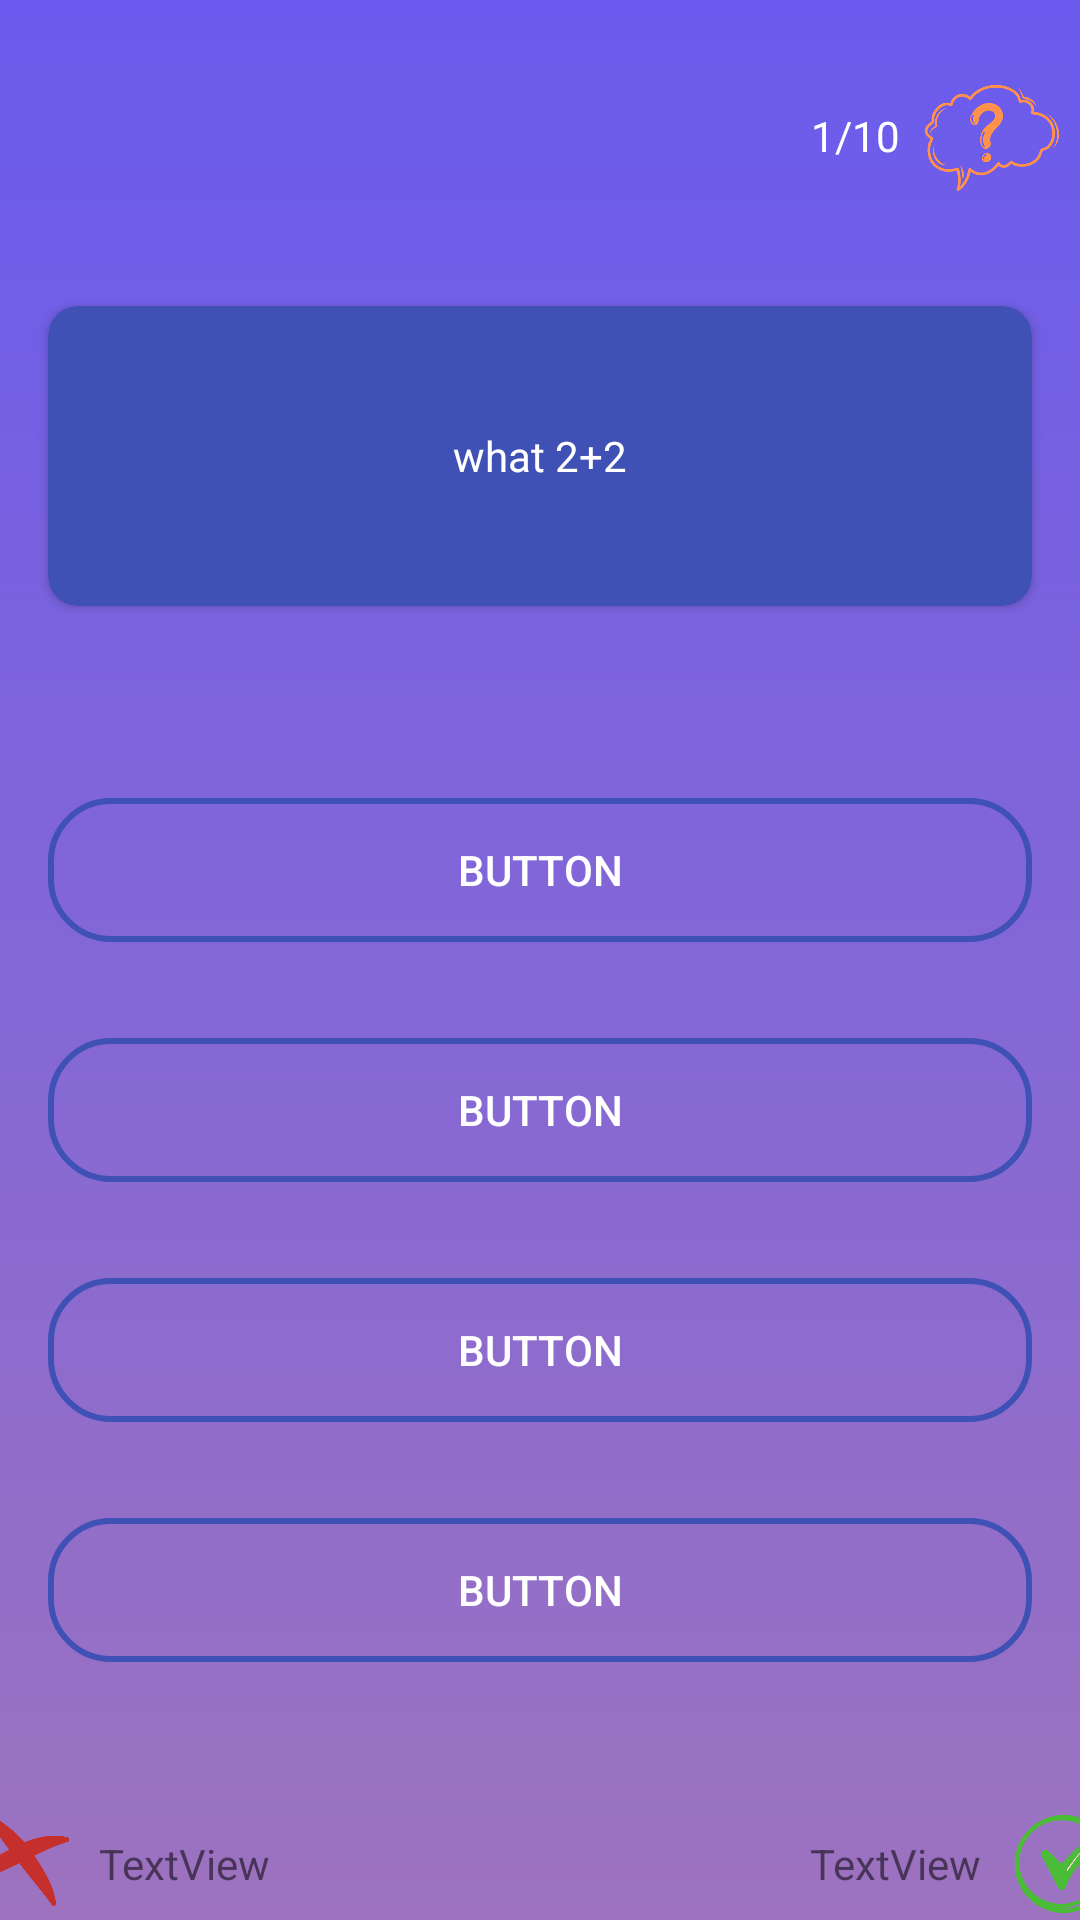

Screen size 1080 × 1920. Icon name, then its center in pixels as point (x, y):
questionmark: point (992, 138)
